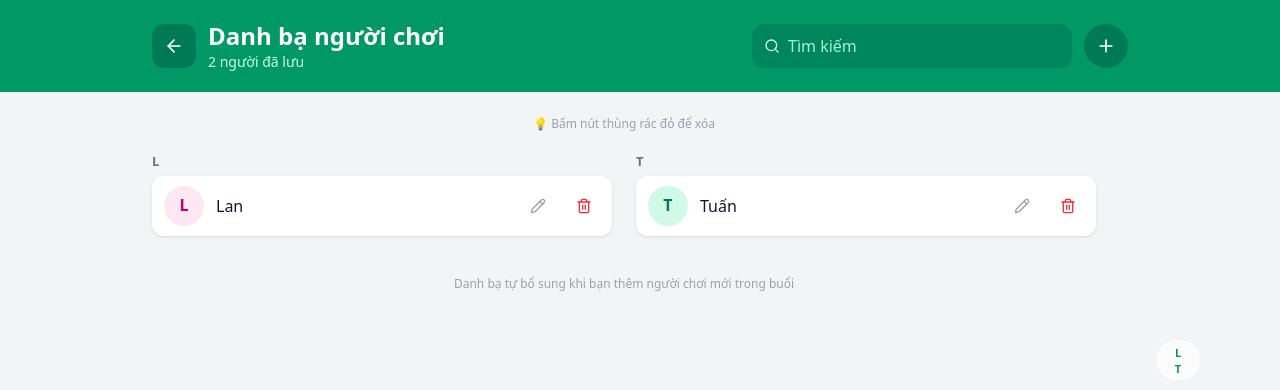
swipe-left reveals the red Xóa button; tapping it deletes the entry
The image size is (1280, 390).
Press the mouse on the element with test id "roster-swipe-row-Tuấn" at (866, 206), box [636,176,1096,236]
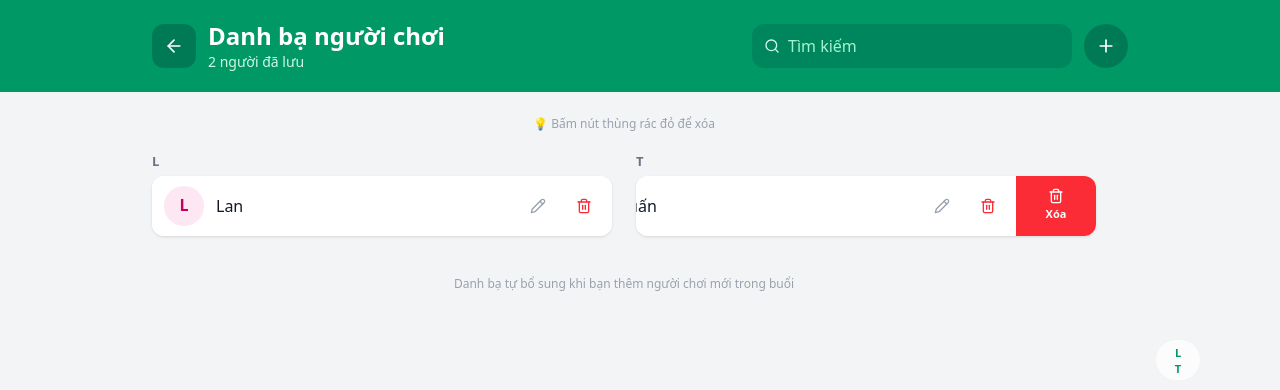
Click the button with aria-label "Xóa nhanh Tuấn" at (1056, 206), box [1016,176,1096,236]
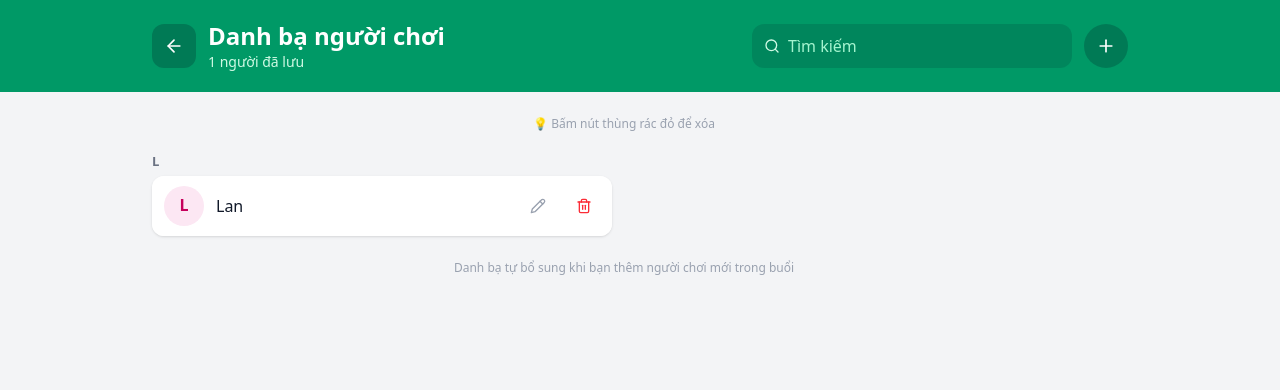
Now the button "Tuấn" is gone
